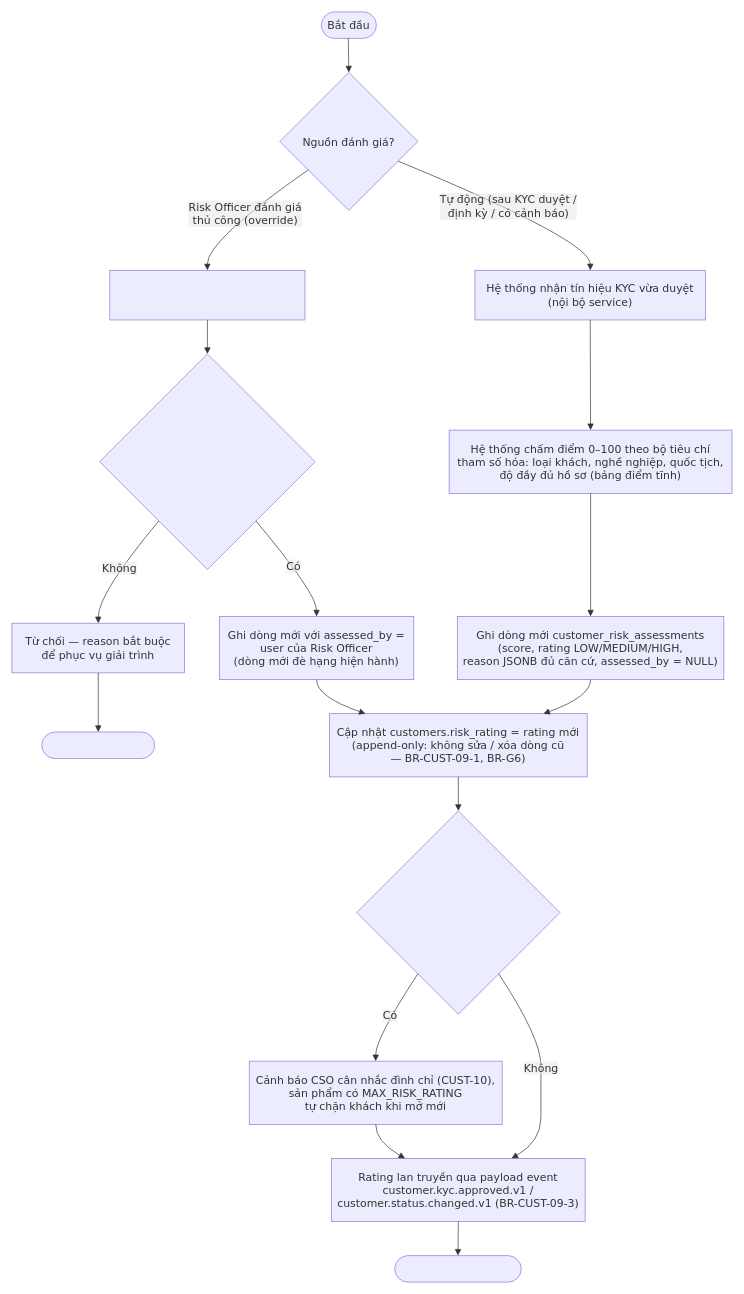
This 744x1294 diagram has some shape labels left out. Each missing label, with the centre of its shape:
"Hạng chuyển sang HIGH?" goes at point 458,912.
"Kết thúc — thành công" goes at point 457,1268.
"Kết thúc — thất bại" goes at point 98,745.
"reason ghi đủ căn cứ tính điểm? (BR-CUST-09-2)" goes at point 207,461.
"Risk Officer nhập score / rating + căn cứ đánh giá" goes at point 207,295.
